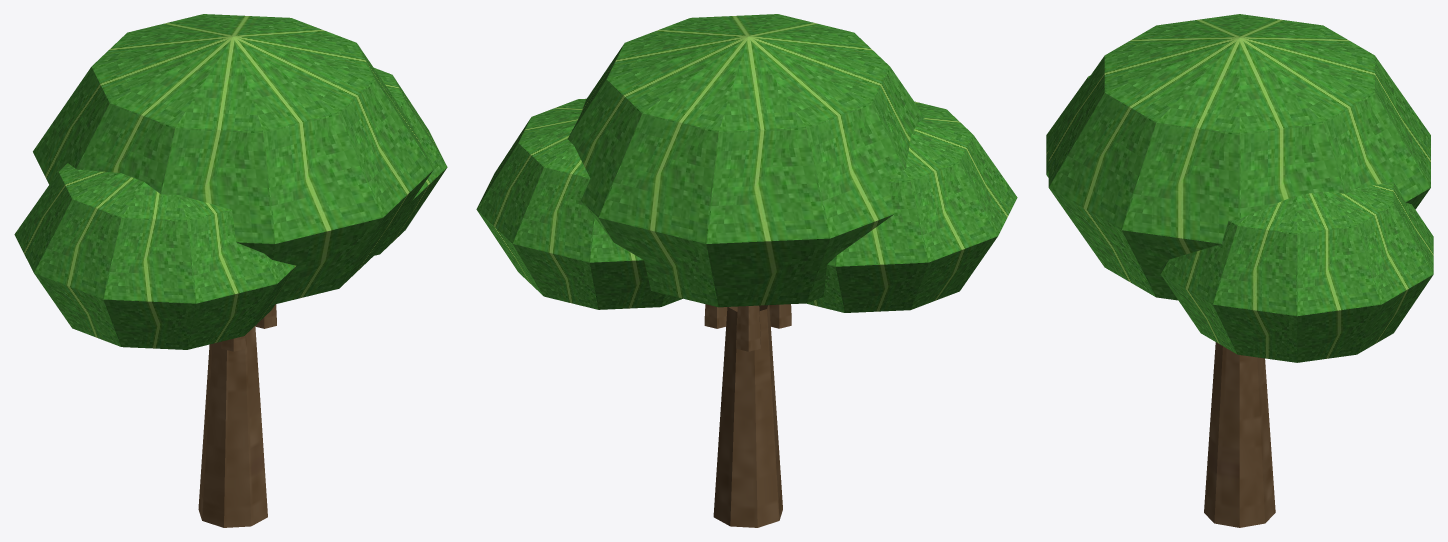
Rendered from shadetree-cream.glb.
3 renders of one model, left to right at view 1: azimuth 30°, elevation 25°; view 2: azimuth 150°, elevation 25°; view 3: azimuth 270°, elevation 25°, orthographic.
Parts seen in each view (by area): view 1: shadetree-cream; view 2: shadetree-cream; view 3: shadetree-cream.
Part boxes in pixels (left/top/right/bottom): shadetree-cream: left=14, top=14, right=447, bottom=527; shadetree-cream: left=476, top=14, right=1017, bottom=527; shadetree-cream: left=1046, top=14, right=1433, bottom=527.
Size of the model in its own units: 7.2 by 7.3 by 5.4.
Materials: 1 (1 with a texture image).
